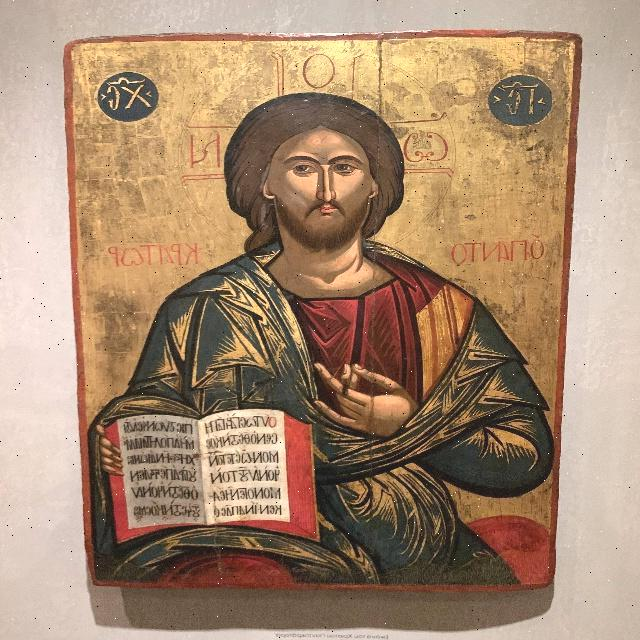aura: (184, 58, 459, 250)
book: (111, 410, 310, 541)
christ_pantocrator: (103, 38, 554, 583)
